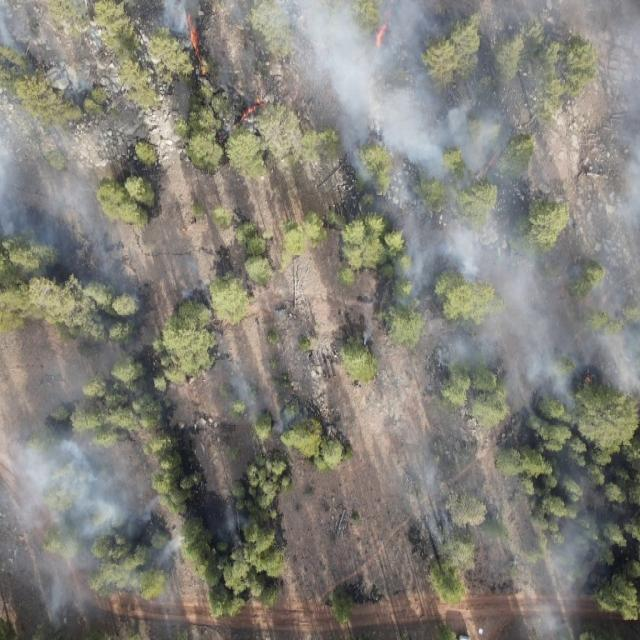fire: (186, 12, 208, 66), (231, 97, 267, 125), (371, 20, 392, 50), (476, 154, 500, 180), (584, 373, 594, 388), (218, 135, 225, 143)
smoke: (406, 324, 640, 640), (257, 0, 640, 154), (340, 152, 640, 326), (0, 425, 183, 640), (0, 101, 139, 296), (0, 0, 78, 102), (210, 354, 288, 438), (154, 1, 202, 42), (174, 255, 206, 303), (216, 500, 248, 548)
